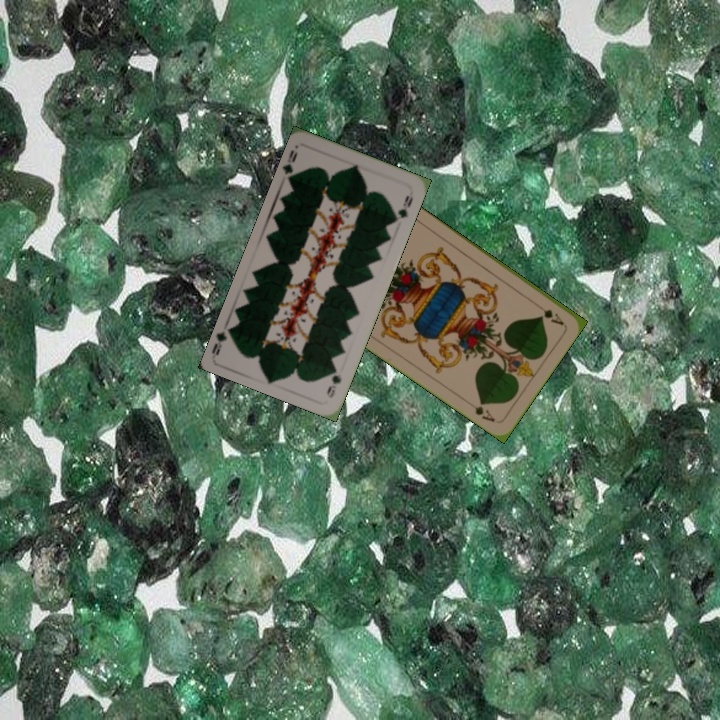G9: (323, 361, 344, 400), (280, 146, 300, 184)
GA: (531, 299, 567, 328)
